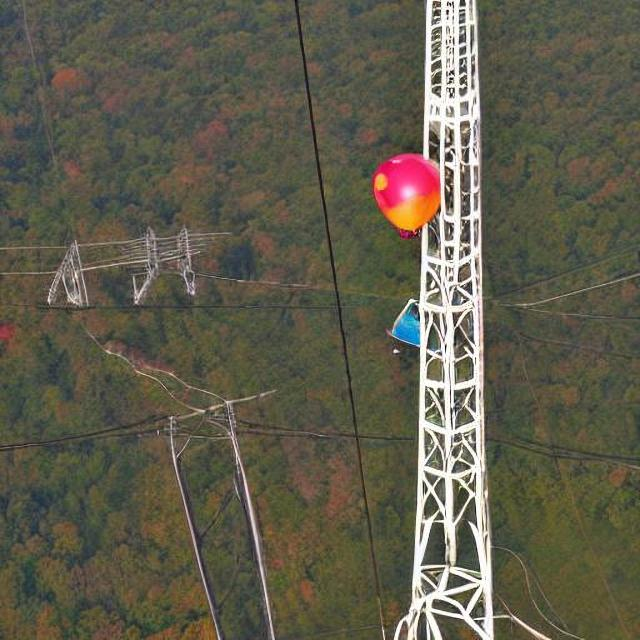balloon: (366, 151, 442, 239)
plastic bag: (378, 283, 436, 356)
